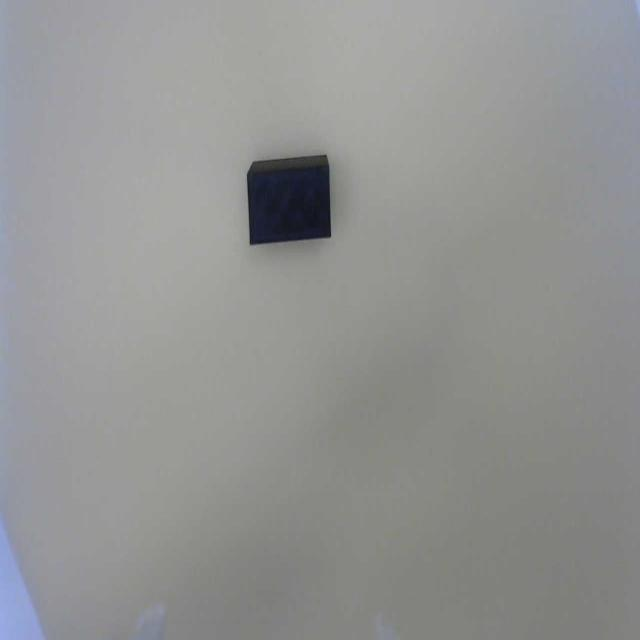rectangle: (248, 165, 331, 247)
